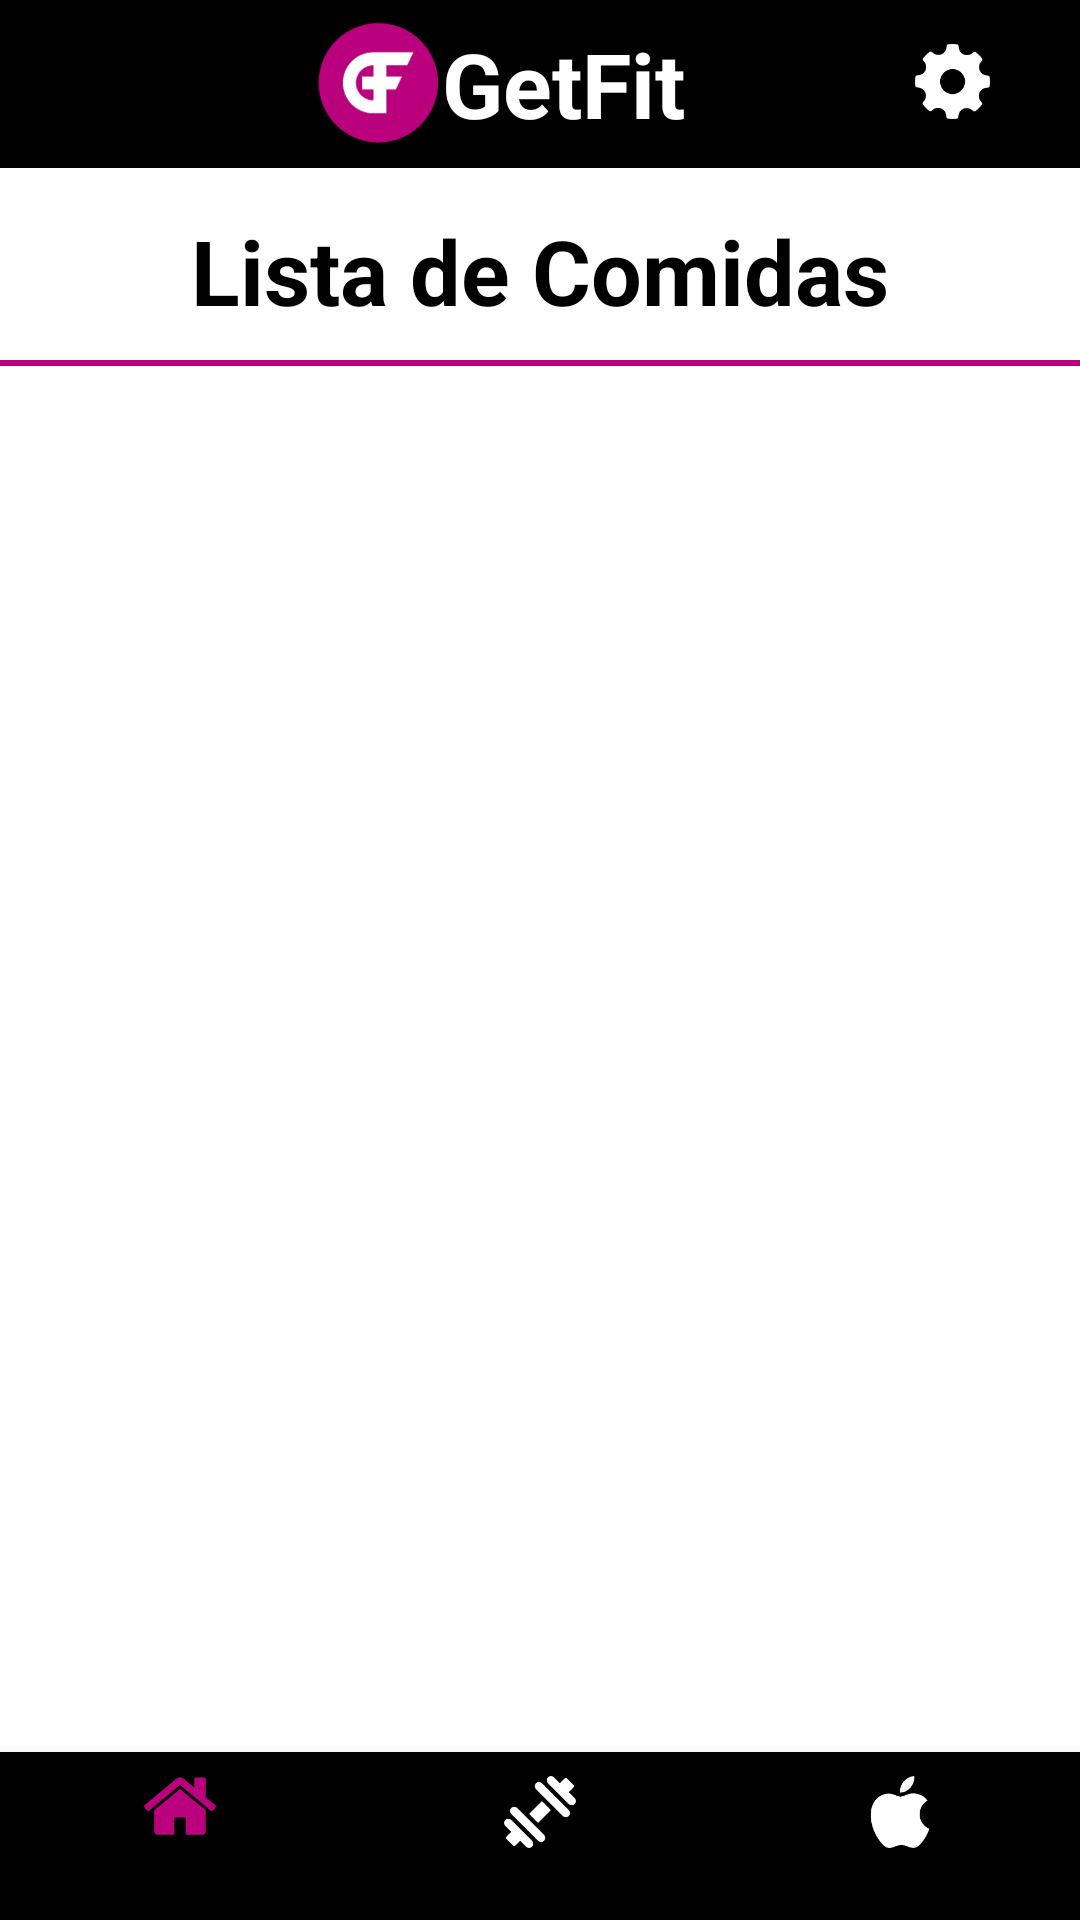

Icons on this 1080 x 1920 Android screen, each with its box as (x1, y1, x2, y2):
ajustes: (915, 44, 990, 119)
